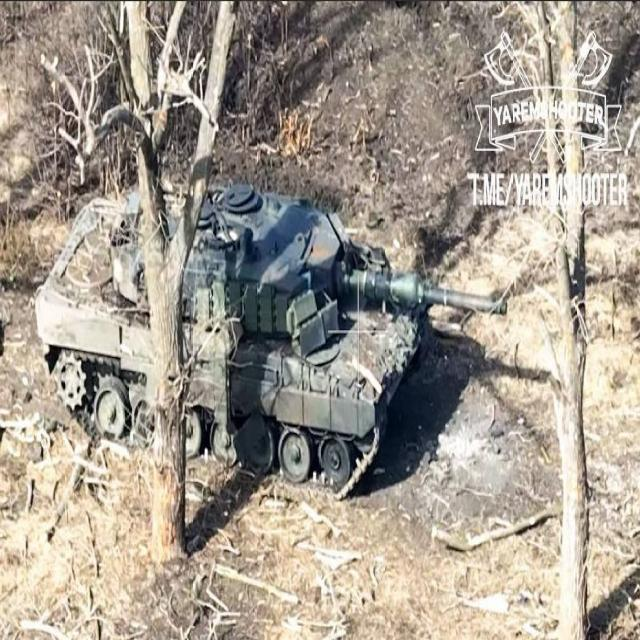vehicle: (28, 150, 439, 507)
